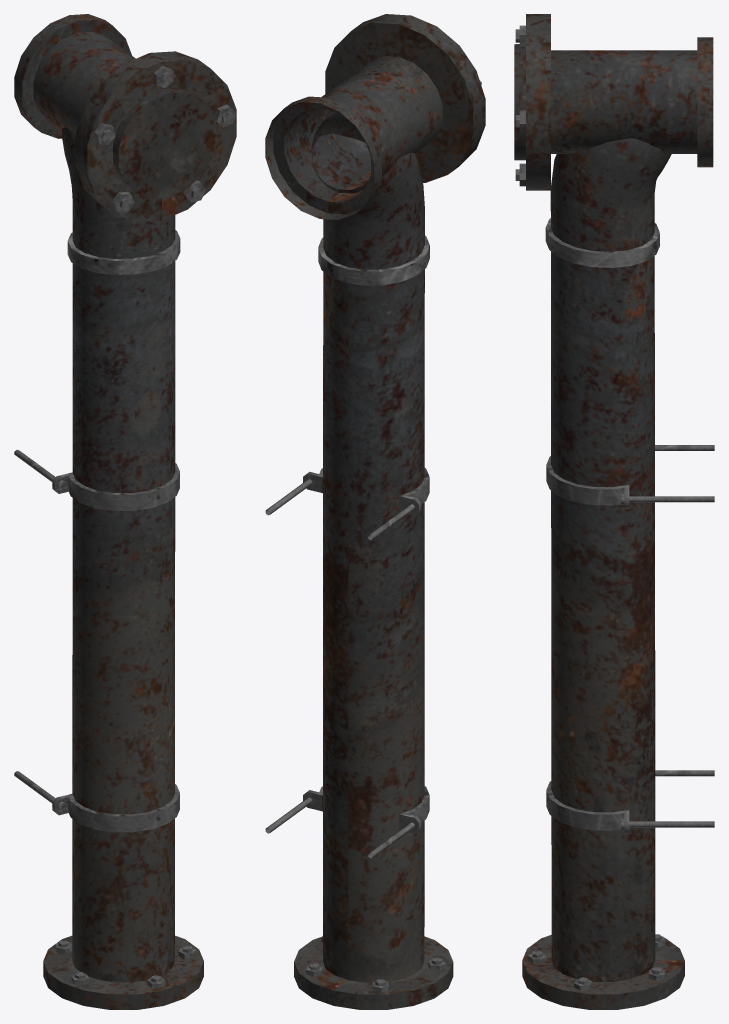
File: SM_Prop_Pipe.fbx
3 renders of one model, left to right at view 1: azimuth 30°, elevation 25°; view 2: azimuth 150°, elevation 25°; view 3: azimuth 270°, elevation 25°, orthographic. The views are drawn at different scales.
Visible parts, largest first — view 1: SM_Prop_Pipe_LOD0; view 2: SM_Prop_Pipe_LOD0; view 3: SM_Prop_Pipe_LOD0.
Boxes of the visible parts, bbox=[...] form: SM_Prop_Pipe_LOD0: bbox=[14, 14, 236, 1009]; SM_Prop_Pipe_LOD0: bbox=[265, 14, 485, 1009]; SM_Prop_Pipe_LOD0: bbox=[514, 14, 714, 1009].
Bounding box in the file's own units: 35.01 × 40.18 × 211.
Materials: 1 (1 with a texture image).
